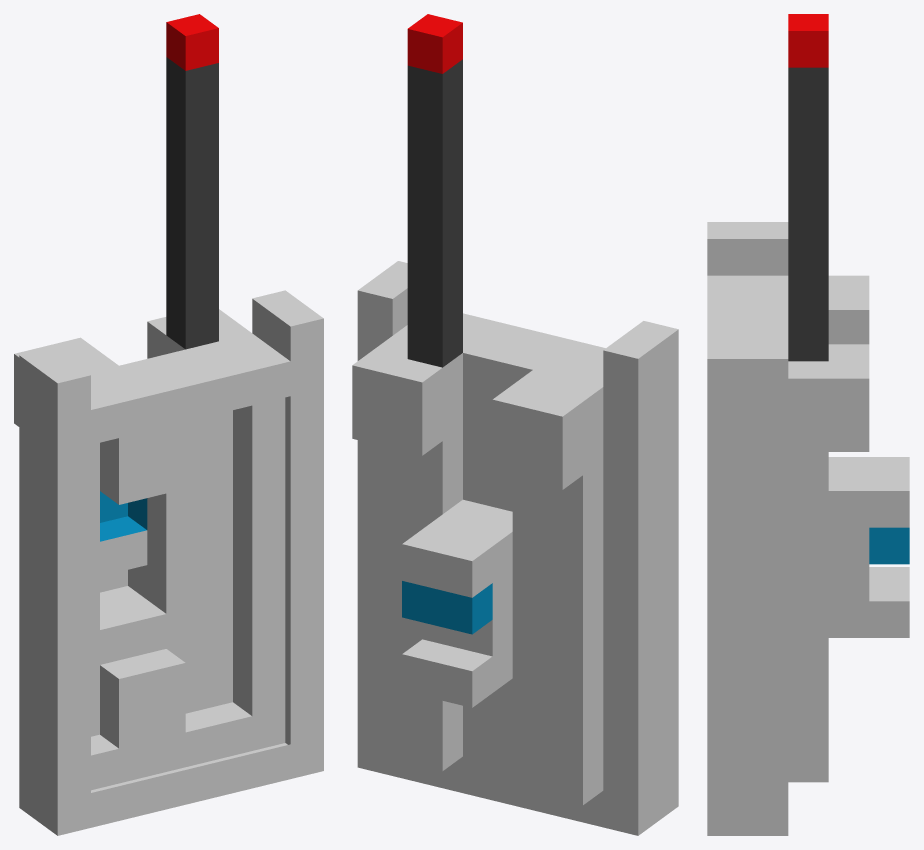
Rendered from astronaut backpack.glb.
3 renders of one model, left to right at view 1: azimuth 30°, elevation 25°; view 2: azimuth 150°, elevation 25°; view 3: azimuth 270°, elevation 25°, orthographic. The views are drawn at different scales.
Visible parts, largest first — view 1: Object_2; view 2: Object_2; view 3: Object_2.
Part boxes in pixels (bbox=[...]): Object_2: bbox=[14, 14, 323, 835]; Object_2: bbox=[352, 14, 678, 835]; Object_2: bbox=[707, 14, 909, 835].
Bounding box in the file's own units: 8 × 21 × 5.
Materials: 1 (1 with a texture image).
